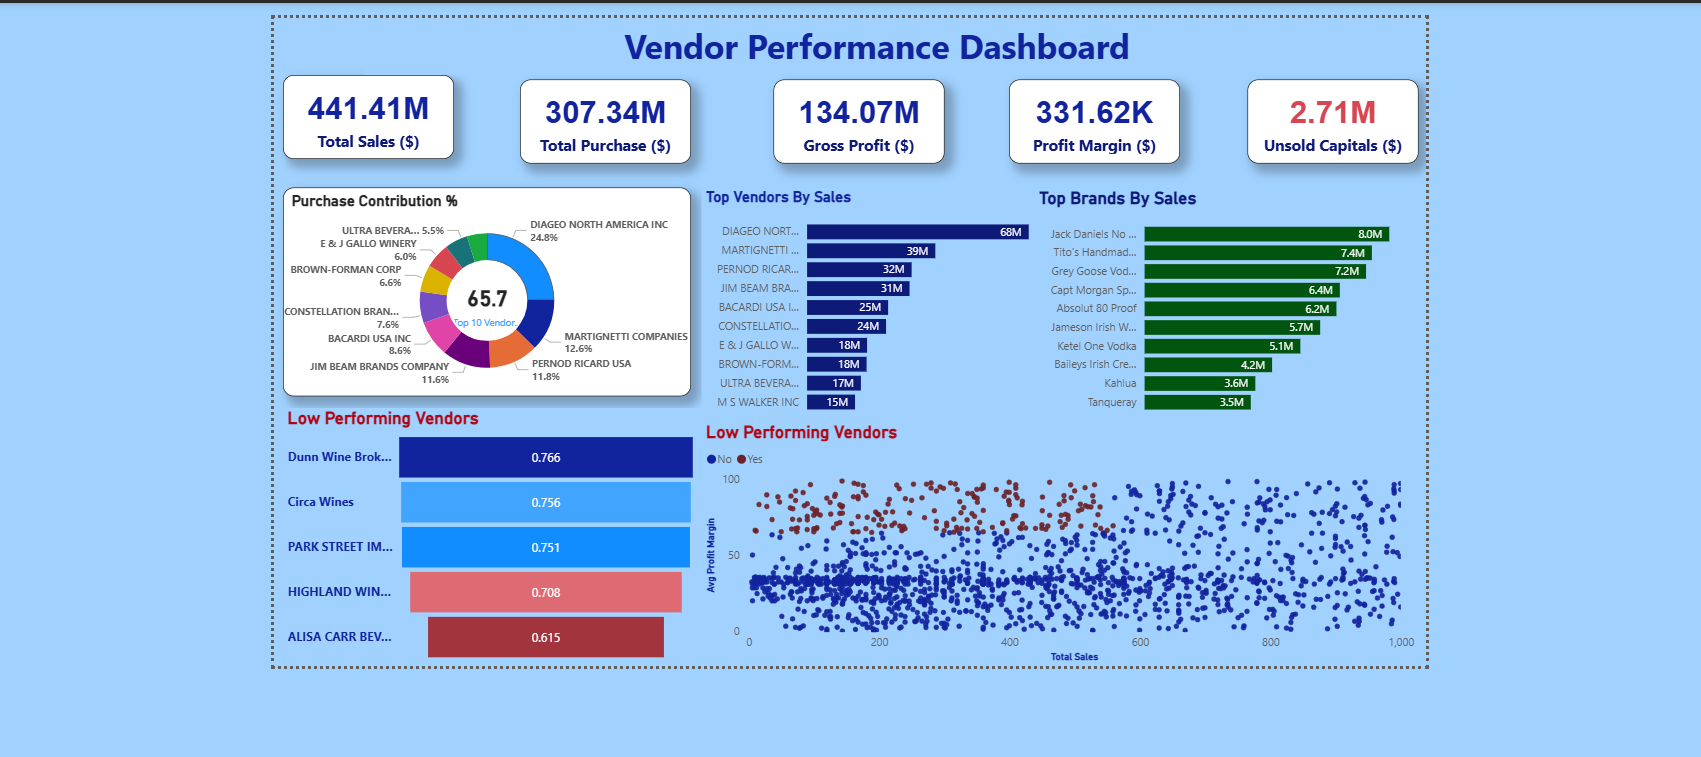

What the dashboard file says about the page in this screenshot:
{"tool":"powerbi","page":{"name":"Page 1","canvas":[1280,720],"ordinal":0},"visuals":[{"type":"card","fields":{"Values":["Sum(vendor_sales_summary.TotalSalesDollars)"]},"box":[10,63.3,190,93.3],"z":0},{"type":"card","fields":{"Values":["Sum(vendor_sales_summary.TotalPurchaseDollars)"]},"box":[273.3,68.3,190,93.3],"z":1000},{"type":"card","fields":{"Values":["Sum(vendor_sales_summary.GrossProfit)"]},"box":[555,68.3,190,93.3],"z":2000},{"type":"card","fields":{"Values":["Sum(vendor_sales_summary.ProfitMargin)"]},"box":[816.7,68.3,190,93],"z":3000},{"type":"card","fields":{"Values":["Sum(vendor_sales_summary.UnsoldCapitals)"]},"box":[1081.7,68.3,190,93.3],"z":4000},{"type":"donutChart","title":"Purchase Contribution % ","fields":{"Category":["PurchaseContribution.VendorName"],"Y":["Sum(PurchaseContribution.PurchaseContribution%)"]},"box":[10,188.3,453.3,231.7],"z":5000},{"type":"barChart","title":"Top Vendors By Sales","fields":{"Category":["vendor_sales_summary.VendorName"],"Y":["Sum(vendor_sales_summary.TotalSalesDollars)"]},"box":[475,188.3,415,260],"z":6000},{"type":"barChart","title":"Top Brands By Sales","fields":{"Category":["vendor_sales_summary.Description"],"Y":["Sum(vendor_sales_summary.TotalSalesDollars)"]},"box":[845,188.3,435,260],"z":7000},{"type":"funnel","title":"Low Performing Vendors","fields":{"Category":["LowTurnoverVendor.VendorName"],"Y":["Sum(LowTurnoverVendor.AvgStockTutnOver)"]},"box":[10,433.3,465,286.7],"z":8000},{"type":"scatterChart","title":"Low Performing Vendors ","fields":{"Category":["BrandPerformance.Description"],"X":["Sum(BrandPerformance.TotalSales)"],"Y":["Sum(BrandPerformance.AvgProfitMargin)"],"Series":["BrandPerformance.TargetBrand"]},"box":[475,448.3,796.7,271.7],"z":9000},{"type":"textbox","box":[100,0,1140,63.3],"z":10000},{"type":"card","fields":{"Values":["PurchaseContribution.Measure","select"]},"box":[198,280,78,76],"z":11000}]}

Visuals, with their boxes on the page's 1280x720 design canvas (x1, y1, x2, y2). These are canvas units, not pixel positions in the 1701x757 screenshot, which may show the page scaled, cropped or inside an application window:
card - Sum(vendor_sales_summary.TotalSalesDollars): l=10, t=63, r=200, b=157
card - Sum(vendor_sales_summary.TotalPurchaseDollars): l=273, t=68, r=463, b=162
card - Sum(vendor_sales_summary.GrossProfit): l=555, t=68, r=745, b=162
card - Sum(vendor_sales_summary.ProfitMargin): l=817, t=68, r=1007, b=161
card - Sum(vendor_sales_summary.UnsoldCapitals): l=1082, t=68, r=1272, b=162
"Purchase Contribution % " donutChart: l=10, t=188, r=463, b=420
"Top Vendors By Sales" barChart: l=475, t=188, r=890, b=448
"Top Brands By Sales" barChart: l=845, t=188, r=1280, b=448
"Low Performing Vendors" funnel: l=10, t=433, r=475, b=720
"Low Performing Vendors " scatterChart: l=475, t=448, r=1272, b=720
textbox: l=100, t=0, r=1240, b=63
card - PurchaseContribution.Measure x select: l=198, t=280, r=276, b=356
